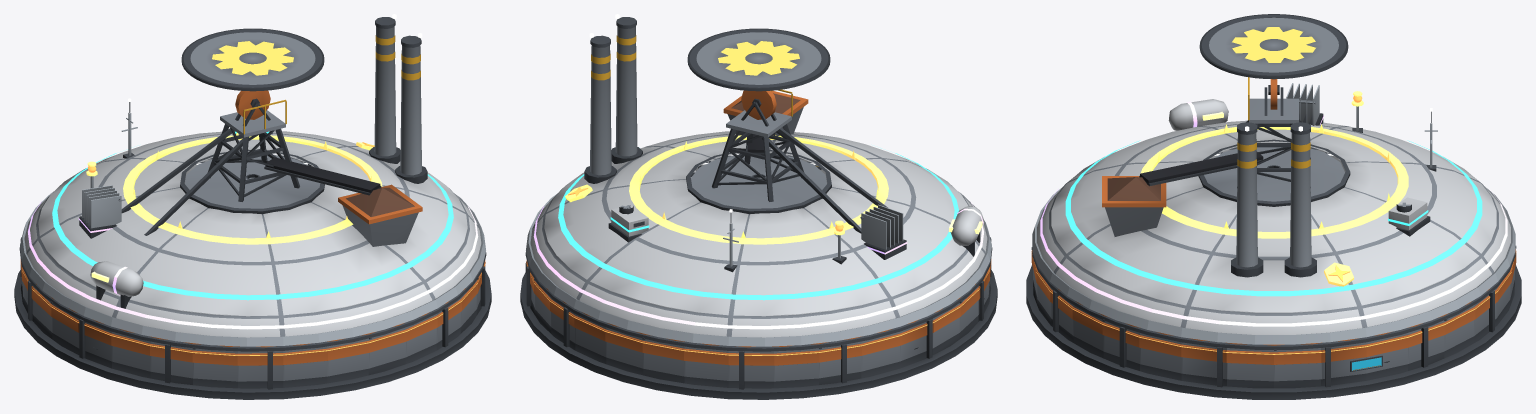
File: mine_m.glb
3 views of the same model, side by side, from view 1: azimuth 30°, elevation 25°; view 2: azimuth 150°, elevation 25°; view 3: azimuth 270°, elevation 25° (orthographic). The views are drawn at different scales.
Visible parts, largest first — view 1: Roof, Base, L5, L4, L3, Wall_21, Wall_20, Wall_22, Wall_19, Wall_23, Wall_18, Wall_24 (+9 smaller); view 2: Roof, Base, L5, L3, L4, Wall_10, Wall_11, Wall_09, Wall_12, Wall_08, Wall_13, Wall_07 (+8 smaller); view 3: Roof, Base, L3, L5, L4, Wall_00, Wall_31, Wall_30, Wall_29, Wall_01, Wall_02, Wall_28 (+10 smaller).
Part boxes in pixels (x1,y1,x2,y2): Roof: (19, 14, 486, 351); Base: (14, 270, 491, 399); L5: (86, 132, 382, 244); L4: (78, 185, 143, 308); L3: (52, 131, 453, 300); Wall_21: (237, 351, 283, 389); Wall_20: (192, 347, 237, 388); Wall_22: (283, 346, 327, 387); Wall_19: (150, 341, 192, 384); Wall_23: (327, 338, 369, 383); Wall_18: (111, 332, 150, 378); Wall_24: (368, 327, 406, 375); Roof: (525, 14, 992, 351); Base: (520, 270, 997, 399); L5: (565, 135, 888, 264); L3: (558, 148, 958, 300); L4: (860, 204, 984, 259); Wall_10: (728, 351, 774, 389); Wall_11: (774, 348, 819, 388); Wall_09: (684, 346, 728, 387); Wall_12: (819, 341, 861, 384); Wall_08: (642, 337, 684, 383); Wall_13: (861, 332, 900, 378); Wall_07: (605, 327, 643, 375); Roof: (1032, 14, 1515, 349); Base: (1026, 264, 1521, 399); L3: (1065, 140, 1482, 296); L5: (1140, 91, 1408, 286); L4: (1168, 83, 1323, 130); Wall_00: (1274, 348, 1321, 388); Wall_31: (1226, 348, 1273, 388); Wall_30: (1181, 342, 1226, 387); Wall_29: (1139, 333, 1181, 380); Wall_01: (1321, 342, 1366, 387); Wall_02: (1366, 333, 1408, 380); Wall_28: (1102, 319, 1139, 370).
Size of the model in its own units: 14.75 by 8.23 by 14.75.
